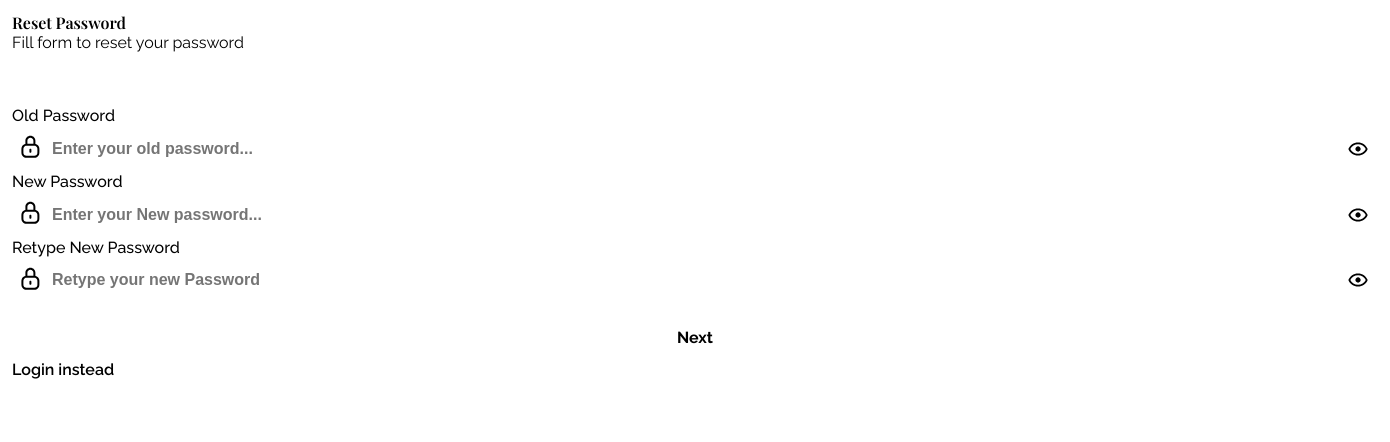
Test: Test Component : ResetPasswordForm › if new password is not valid(character) show error
Type "sdwqd1" into the password field with test id "resetPasswordFormOldPasswordInput". click: (695, 149)
box: [12,132,1378,166]
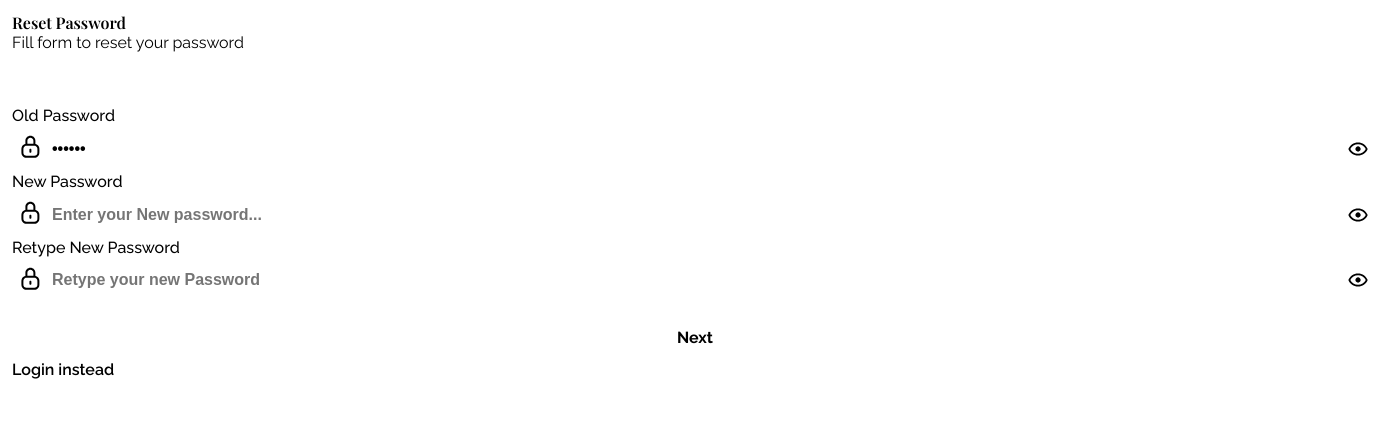
Type "sd" into the password field with test id "resetPasswordFormNewPasswordInput". click: (695, 215)
box: [12,198,1378,232]
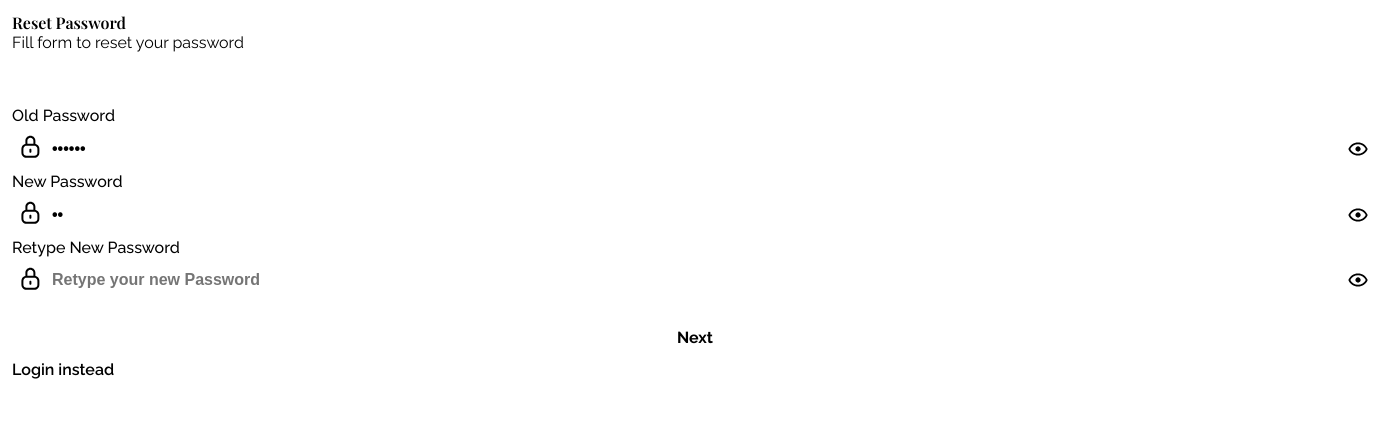
Type "sdw" into the password field with test id "resetPasswordFormRetypePasswordInput". click: (695, 280)
box: [12,263,1378,297]
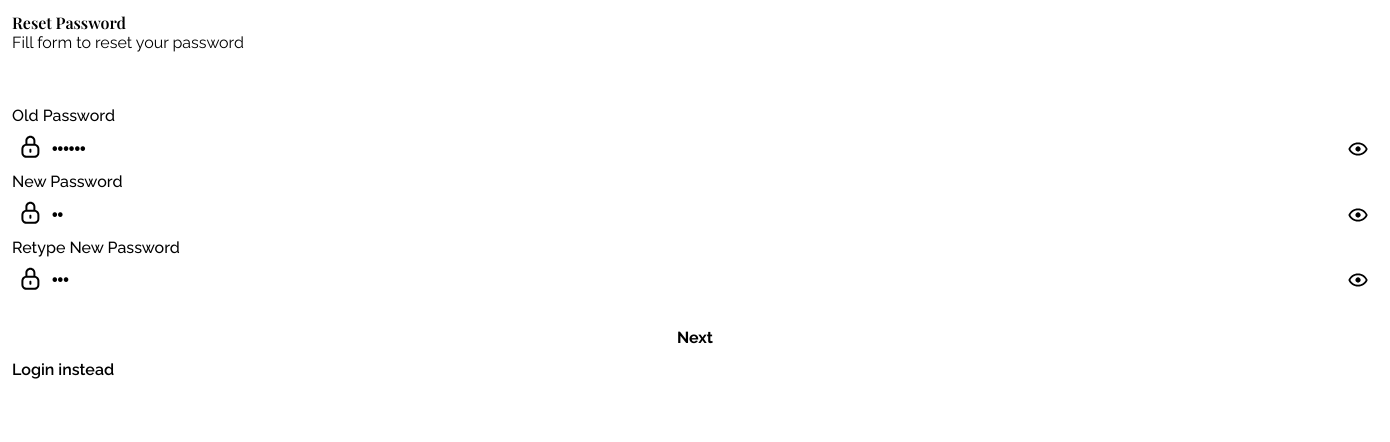
Click the button with test id "resetPasswordFormNextButton". click: (695, 337)
box: [12,321,1378,353]
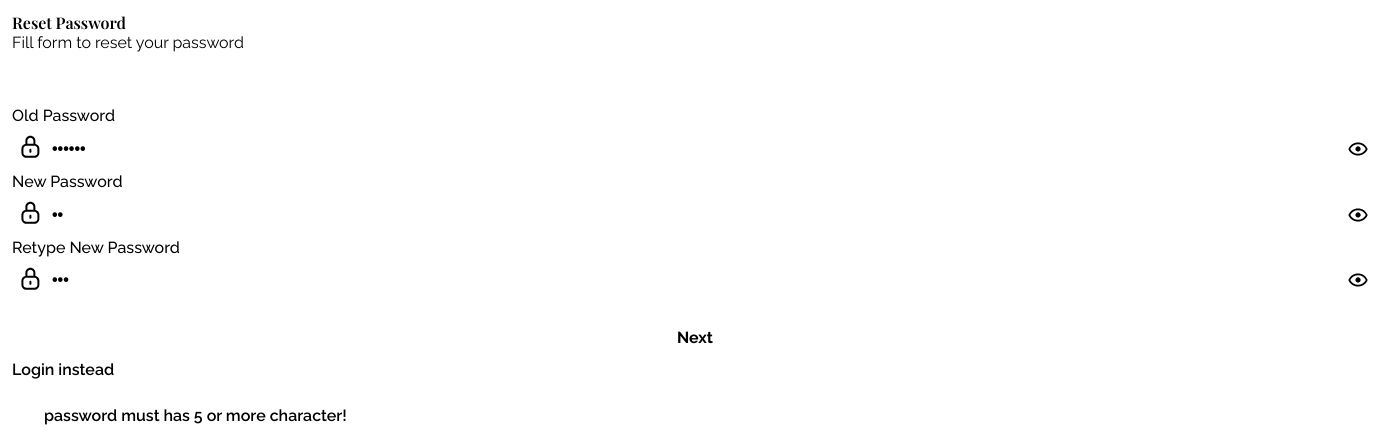
Now the element with test id "errorMessage" reads "password must has 5 or more character!", box [44,406,347,425]
